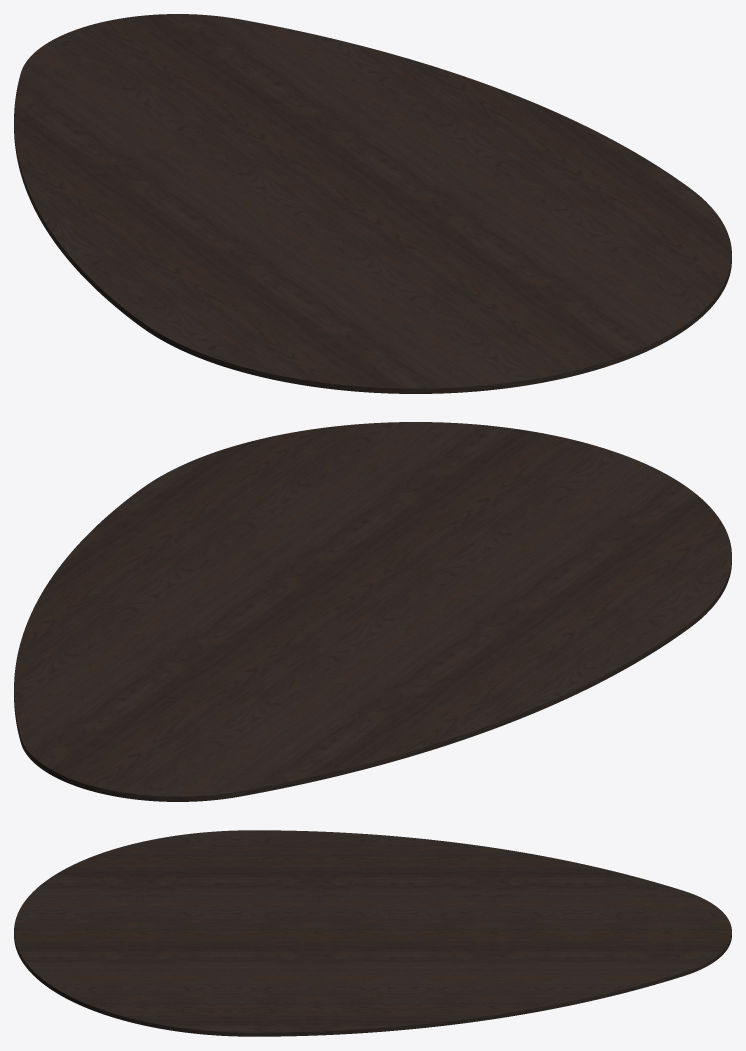
The model's file is oval_mango_wood_dark_brown.glb.
3 views of the same model, one above another, from view 1: azimuth 30°, elevation 25°; view 2: azimuth 150°, elevation 25°; view 3: azimuth 270°, elevation 25° (orthographic). The views are drawn at different scales.
Visible parts, largest first — view 1: Egg001; view 2: Egg001; view 3: Egg001.
Part boxes in pixels (<box>): Egg001: <box>14,14,731,393</box>; Egg001: <box>14,422,731,801</box>; Egg001: <box>14,830,731,1036</box>.
Size of the model in its own units: 1.5 by 0.015 by 2.25.
1 material, 1 textured.
